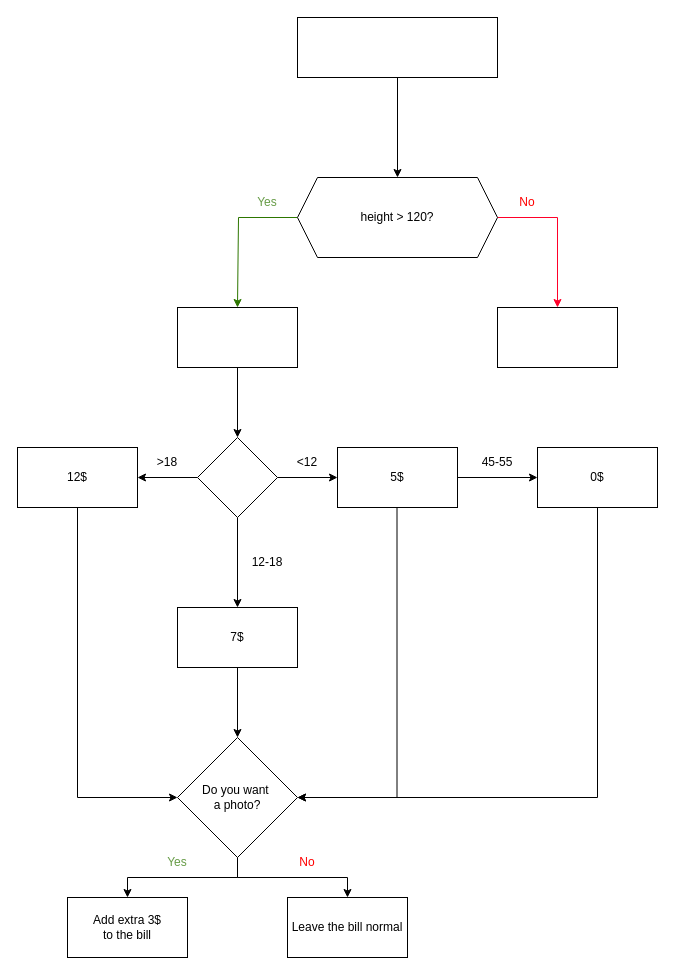
The diagram is 675 pixels wide and 975 high, and some of its shapes have lost their labels. Each missing label, with the centre of its shape:
"age" goes at (237,477).
"Can ride" goes at (237,337).
"Can't ride" goes at (557,337).
"Start" goes at (397,47).
